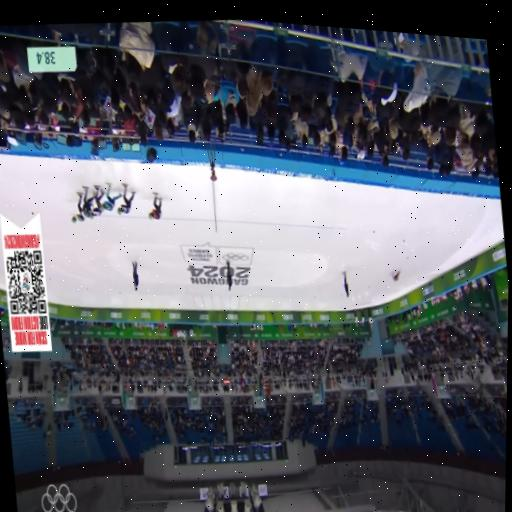Skater: (116, 183, 133, 214), (102, 183, 120, 210), (71, 192, 83, 222), (91, 185, 103, 215), (82, 186, 92, 218), (148, 194, 161, 218), (391, 270, 401, 283)
